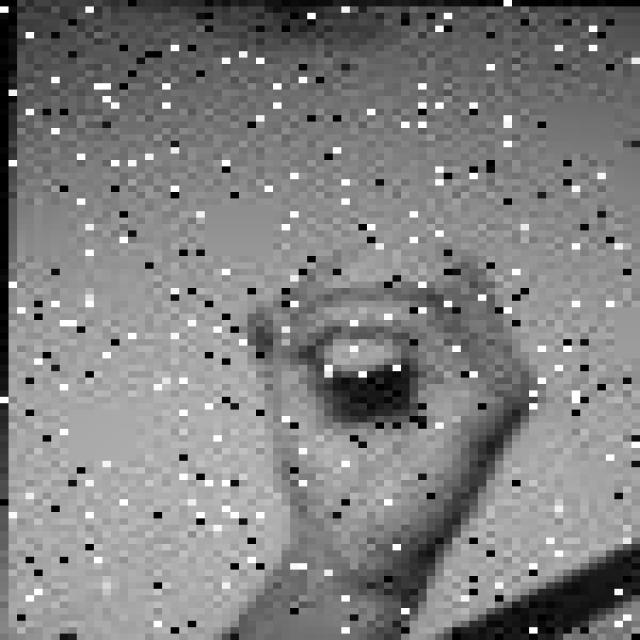O: (222, 236, 537, 570)
